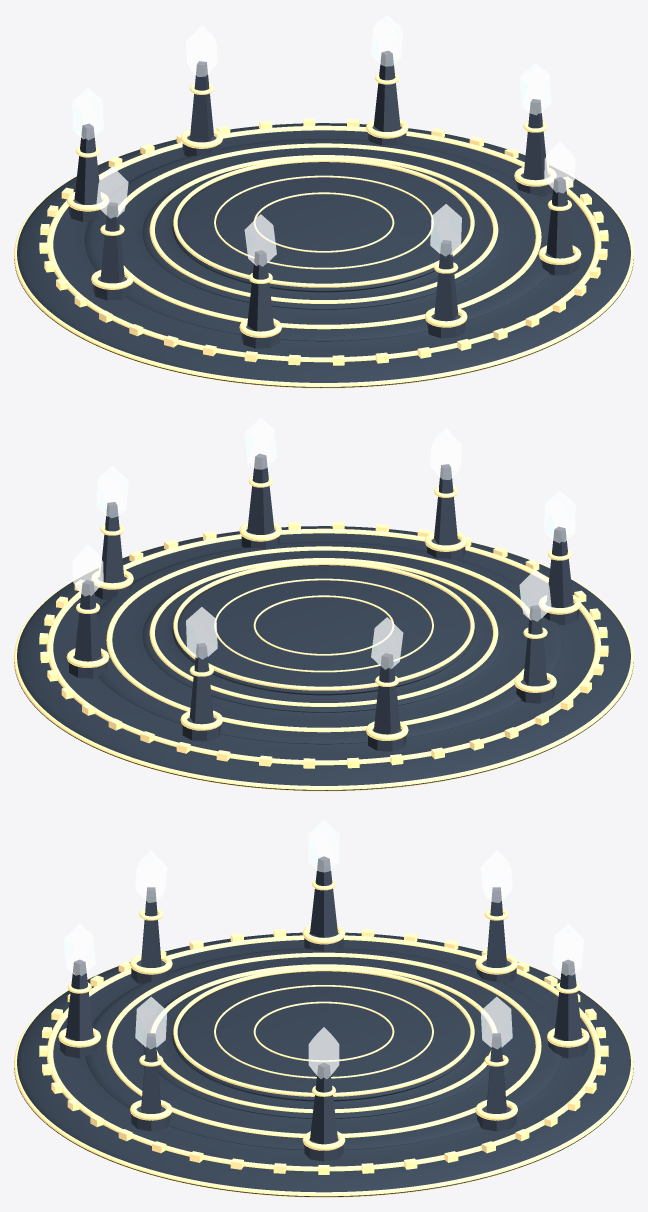
The model's file is altar.glb.
3 renders of one model, top to bottom at view 1: azimuth 30°, elevation 25°; view 2: azimuth 150°, elevation 25°; view 3: azimuth 270°, elevation 25°, orthographic.
Parts seen in each view (by area): view 1: dais, rim_t1, rim_base, rim_t2, rim_t3, pylon_3, pylon_5, pylon_6, pylon_7, pylon_1, pylon_4, pylon_0 (+4 smaller); view 2: dais, rim_t1, rim_base, rim_t2, rim_t3, pylon_5, pylon_3, pylon_2, pylon_1, pylon_7, pylon_4, pylon_0 (+4 smaller); view 3: dais, rim_t1, rim_t2, rim_base, pylon_0, pylon_2, pylon_6, pylon_4, rim_t3, pylon_1, pylon_7, rim_top (+4 smaller).
Part boxes in pixels (left/top/right/bottom): dais: left=14, top=123, right=633, bottom=387; rim_t1: left=46, top=125, right=601, bottom=362; rim_base: left=14, top=131, right=633, bottom=388; rim_t2: left=118, top=143, right=541, bottom=329; rim_t3: left=149, top=155, right=498, bottom=303; pylon_3: left=66, top=88, right=108, bottom=222; pylon_5: left=239, top=214, right=281, bottom=348; pylon_6: left=424, top=204, right=467, bottom=338; pylon_7: left=538, top=141, right=581, bottom=275; pylon_1: left=366, top=14, right=408, bottom=145; pylon_4: left=91, top=166, right=133, bottom=300; pylon_0: left=514, top=63, right=556, bottom=196; dais: left=14, top=526, right=633, bottom=790; rim_t1: left=46, top=528, right=601, bottom=765; rim_base: left=14, top=534, right=633, bottom=791; rim_t2: left=106, top=546, right=529, bottom=732; rim_t3: left=149, top=558, right=498, bottom=706; pylon_5: left=539, top=491, right=581, bottom=625; pylon_3: left=366, top=617, right=408, bottom=751; pylon_2: left=180, top=607, right=223, bottom=741; pylon_1: left=66, top=544, right=109, bottom=678; pylon_7: left=239, top=417, right=281, bottom=548; pylon_4: left=514, top=569, right=556, bottom=703; pylon_0: left=91, top=466, right=133, bottom=599; dais: left=14, top=932, right=633, bottom=1196; rim_t1: left=47, top=935, right=600, bottom=1171; rim_t2: left=106, top=952, right=541, bottom=1137; rim_base: left=14, top=941, right=633, bottom=1197; pylon_0: left=302, top=1027, right=345, bottom=1161; pylon_2: left=547, top=923, right=589, bottom=1058; pylon_6: left=58, top=923, right=100, bottom=1058; pylon_4: left=302, top=820, right=345, bottom=951; rim_t3: left=151, top=964, right=496, bottom=1112; pylon_1: left=475, top=996, right=517, bottom=1131; pylon_7: left=130, top=996, right=172, bottom=1131; rim_top: left=173, top=967, right=474, bottom=1096.
Bounding box in the file's own units: 3.76 × 0.983 × 3.76.
